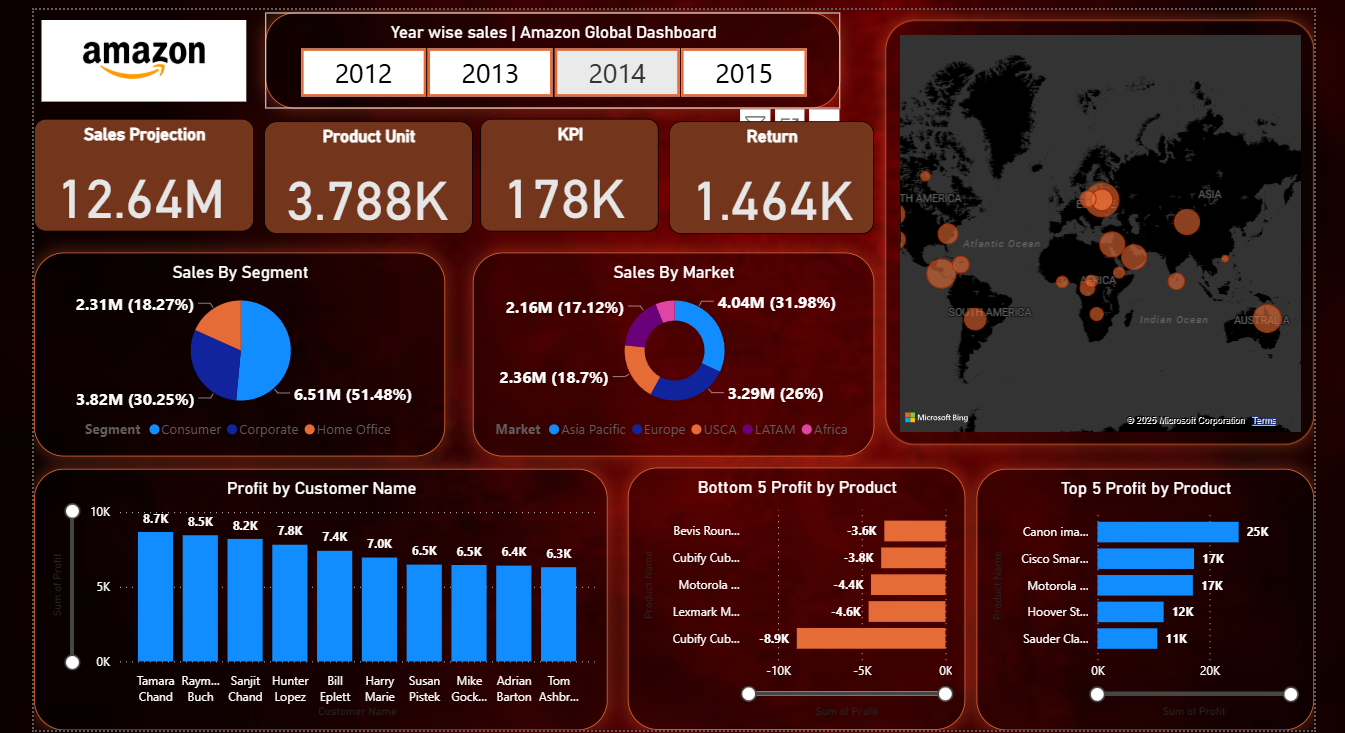

This screenshot's page, from the dashboard's own definition file:
{"tool":"powerbi","page":{"name":"report 1","canvas":[1280,720],"ordinal":0},"visuals":[{"type":"slicer","title":"Year wise sales | Amazon Global Dashboard","fields":{"Values":["Orders.Year"]},"box":[231.2,2.5,575,96.2],"z":0},{"type":"image","box":[7.5,10,205,81.2],"z":1000},{"type":"cardVisual","title":"Sales Projection","fields":{"Data":["Orders.Sales"]},"box":[0,108.8,220,112.5],"z":2000},{"type":"cardVisual","title":"Product Unit","fields":{"Data":["Orders.Product Name"]},"box":[230,111.2,208.8,112.5],"z":3000},{"type":"cardVisual","title":"KPI","fields":{"Data":["Orders.Quantity"]},"box":[446.2,108.8,178.8,112.5],"z":4000},{"type":"cardVisual","title":"Return ","fields":{"Data":["Orders.Ship Date"]},"box":[635,111.2,205,112.5],"z":5000},{"type":"pieChart","title":"Sales By Segment","fields":{"Category":["Orders.Segment"],"Y":["Orders.Sales"]},"box":[0,242.5,411.2,203.8],"z":6000},{"type":"donutChart","title":"Sales By Market","fields":{"Category":["Orders.Market"],"Y":["Orders.Sales"]},"box":[438.8,242.5,401.2,203.8],"z":7000},{"type":"columnChart","title":"Profit by Customer Name","fields":{"Category":["Orders.Customer Name"],"Y":["Orders.Profit"]},"box":[0,458.8,573.8,261.2],"z":8000},{"type":"clusteredBarChart","title":"Bottom 5 Profit by Product","fields":{"Category":["Orders.Product Name"],"Y":["Orders.Profit"]},"box":[593.8,457.5,337.5,262.5],"z":9000},{"type":"clusteredBarChart","title":"Top 5 Profit by Product","fields":{"Y":["Orders.Profit"],"Category":["Orders.Product Name"]},"box":[942.5,458.8,337.5,261.2],"z":10000},{"type":"map","fields":{"Category":["Orders.Region"],"Size":["Orders.Sales"]},"box":[851.2,10,428.8,425],"z":11000}]}

Visuals, with their boxes on the page's 1280x720 design canvas (x1, y1, x2, y2). These are canvas units, not pixel positions in the 1345x733 screenshot, which may show the page scaled, cropped or inside an application window:
"Year wise sales | Amazon Global Dashboard" slicer: <region>231, 2, 806, 99</region>
image: <region>8, 10, 212, 91</region>
"Sales Projection" cardVisual: <region>0, 109, 220, 221</region>
"Product Unit" cardVisual: <region>230, 111, 439, 224</region>
"KPI" cardVisual: <region>446, 109, 625, 221</region>
"Return " cardVisual: <region>635, 111, 840, 224</region>
"Sales By Segment" pieChart: <region>0, 242, 411, 446</region>
"Sales By Market" donutChart: <region>439, 242, 840, 446</region>
"Profit by Customer Name" columnChart: <region>0, 459, 574, 720</region>
"Bottom 5 Profit by Product" clusteredBarChart: <region>594, 458, 931, 720</region>
"Top 5 Profit by Product" clusteredBarChart: <region>942, 459, 1280, 720</region>
map - Orders.Region x Orders.Sales: <region>851, 10, 1280, 435</region>
